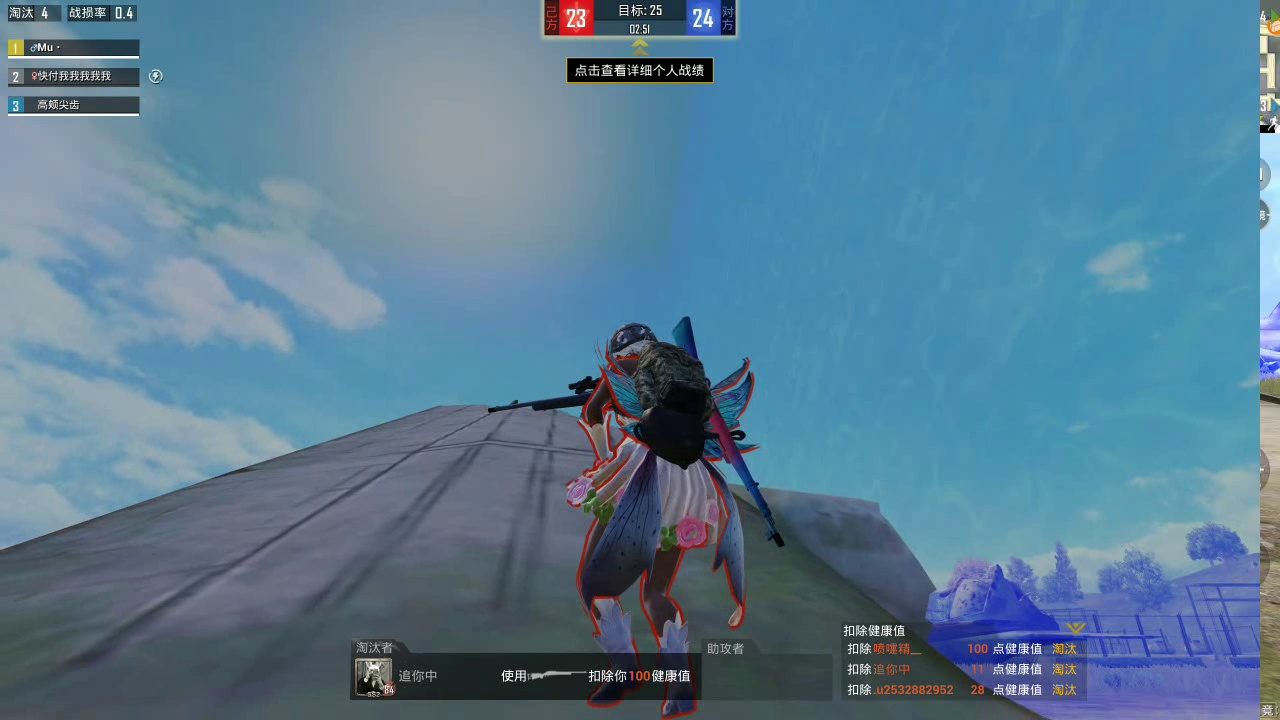enemy: (558, 321, 720, 662)
